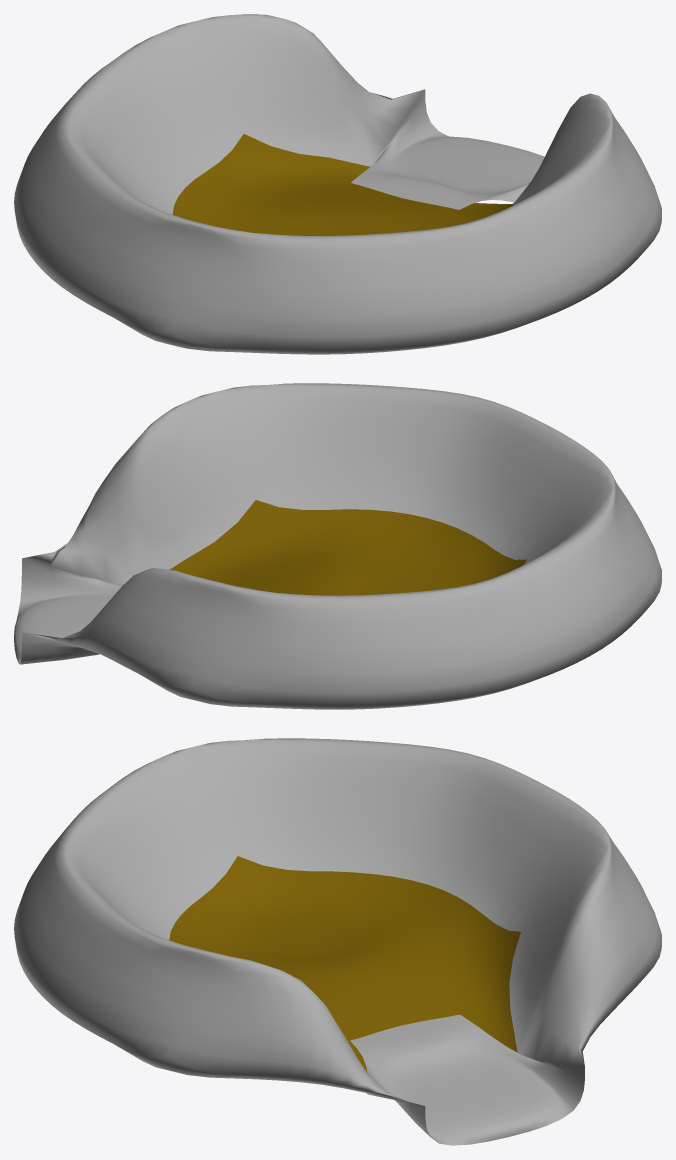
The model's file is arena test.fbx.
3 views of the same model, one above another, from view 1: azimuth 30°, elevation 25°; view 2: azimuth 150°, elevation 25°; view 3: azimuth 270°, elevation 25° (orthographic). The views are drawn at different scales.
Visible parts, largest first — view 1: pDisc1; view 2: pDisc1; view 3: pDisc1.
Boxes of the visible parts, box(x1,y1,x2,y2) form: pDisc1: box(14, 14, 661, 354); pDisc1: box(14, 383, 661, 709); pDisc1: box(14, 738, 661, 1145).
Size of the model in its own units: 18.59 by 4.95 by 18.17.
